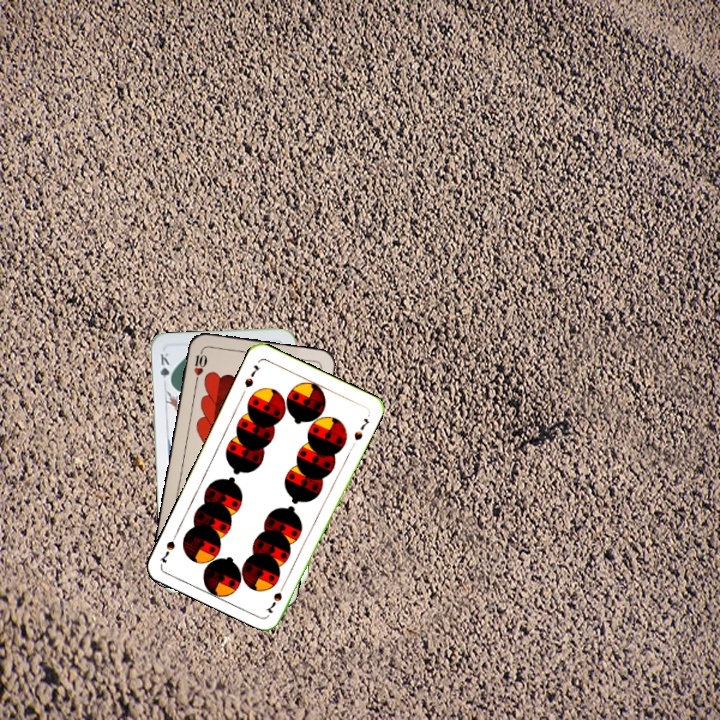GK: (156, 349, 174, 388)
H10: (190, 345, 209, 385)
S7: (262, 579, 289, 616), (240, 361, 263, 390)
